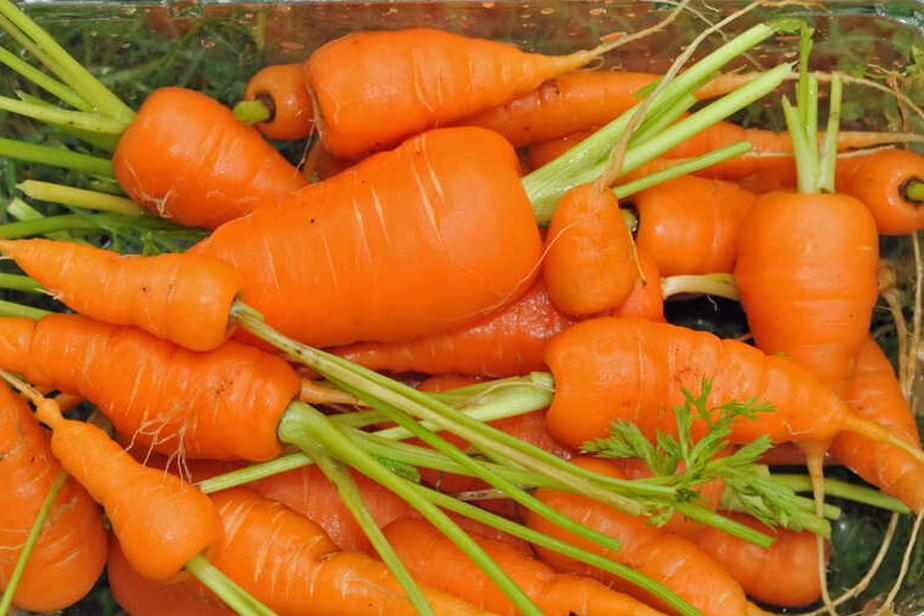carrot: (31, 55, 917, 616), (265, 367, 753, 616), (157, 172, 566, 350), (473, 304, 898, 469), (9, 372, 255, 616), (305, 37, 583, 150), (110, 93, 303, 244), (0, 232, 246, 350), (552, 182, 672, 321)
